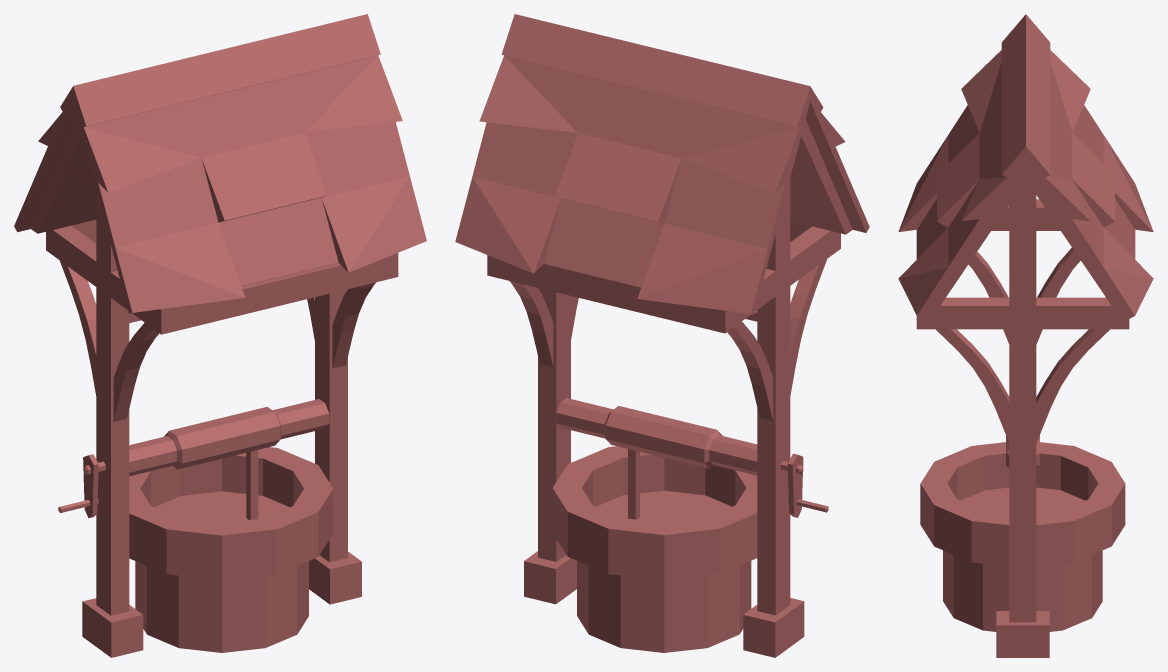
Rendered from Well.fbx.
3 views of the same model, side by side, from view 1: azimuth 30°, elevation 25°; view 2: azimuth 150°, elevation 25°; view 3: azimuth 270°, elevation 25° (orthographic). The views are drawn at different scales.
Parts seen in each view (by area): view 1: Well1; view 2: Well1; view 3: Well1.
Boxes of the visible parts, <box> form: Well1: <box>14,14,426,657</box>; Well1: <box>455,14,869,657</box>; Well1: <box>898,14,1153,657</box>.
Size of the model in its own units: 193 by 335 by 149.
